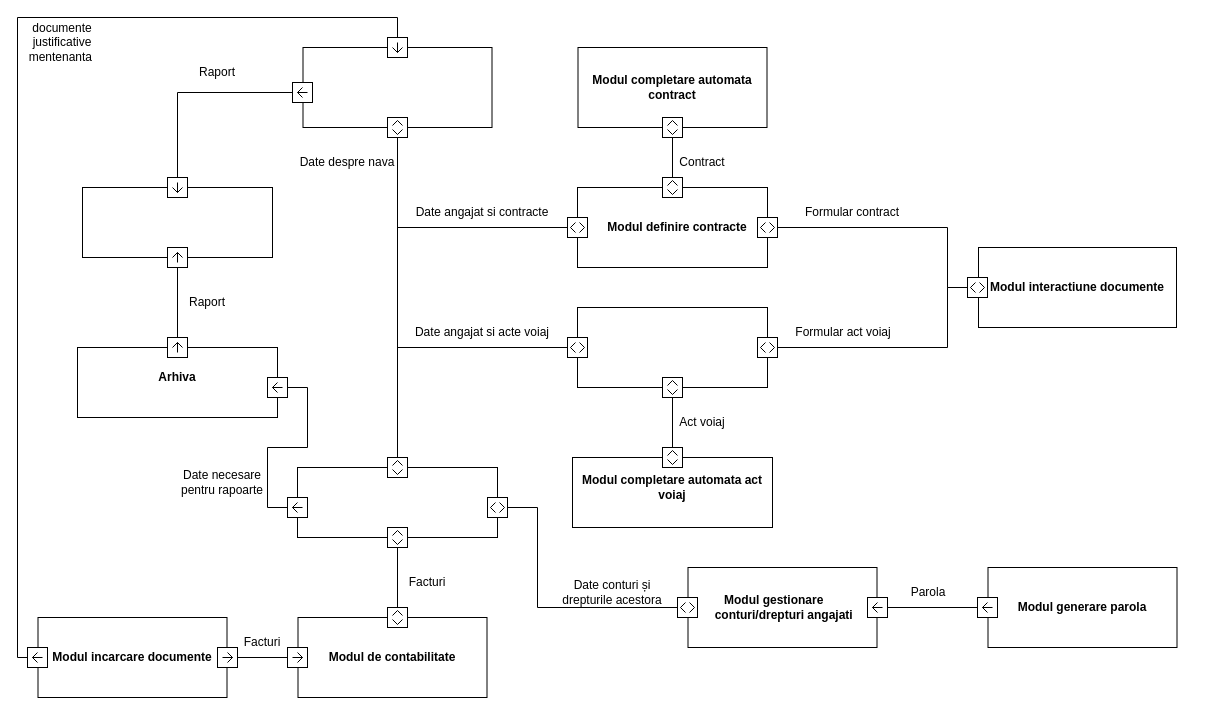
The diagram is 1205 pixels wide and 715 high, and some of its shapes have lost their labels. The box of each missing label's shape, as (x1, y1, x2, y2) in pixels:
Baza de date PostgreSQL: (296, 456, 498, 538)
Modul afisare rapoarte: (82, 186, 272, 258)
Modul definire acte de voiaj: (576, 306, 778, 388)
Modul generare rapoarte de mentenanta: (292, 46, 502, 128)
